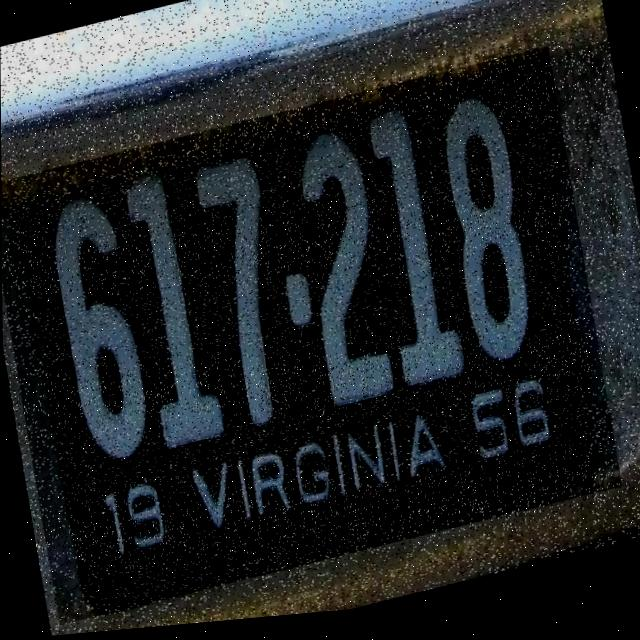LicensePlate: (1, 51, 622, 630)
